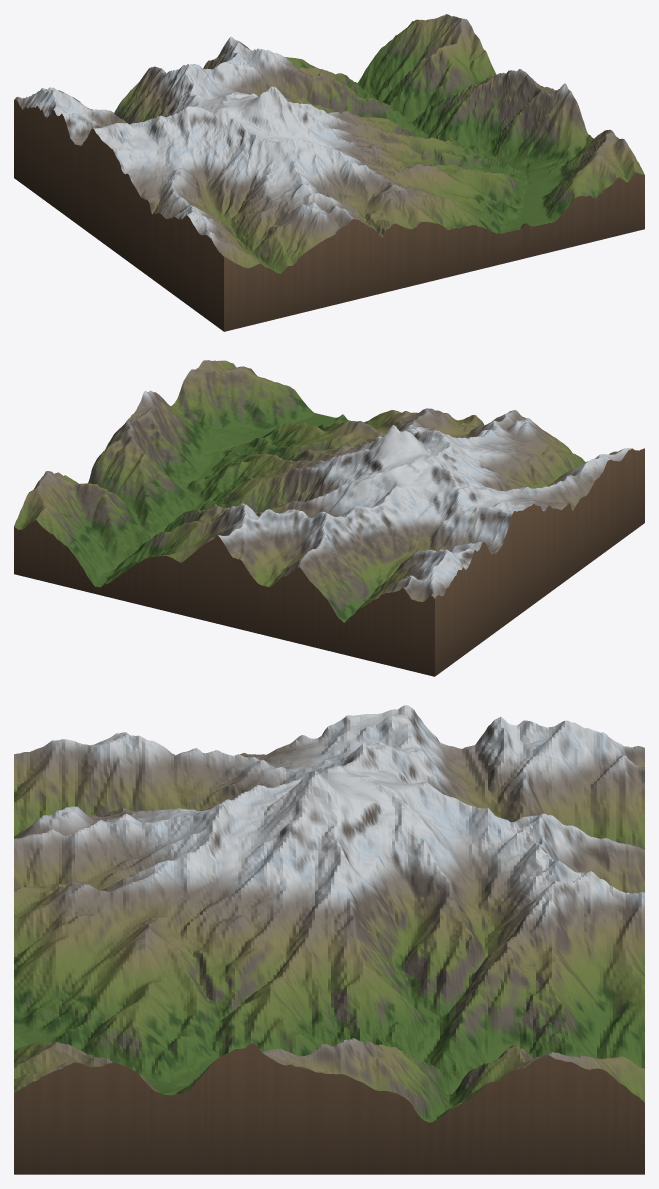
File: kazbegi-relief.glb
The picture shows the model from 3 angles, top to bottom: view 1: azimuth 30°, elevation 25°; view 2: azimuth 150°, elevation 25°; view 3: azimuth 270°, elevation 25°; orthographic projection. The views are drawn at different scales.
Parts seen in each view (by area): view 1: terrain, plinth; view 2: terrain, plinth; view 3: terrain, plinth.
Part boxes in pixels (bbox=[...]): terrain: bbox=[14, 14, 644, 273]; plinth: bbox=[14, 100, 644, 331]; terrain: bbox=[14, 360, 643, 622]; plinth: bbox=[14, 448, 644, 676]; terrain: bbox=[14, 705, 644, 1122]; plinth: bbox=[14, 1043, 644, 1174].
Bounding box in the file's own units: 20.45 × 6.25 × 17.69.
